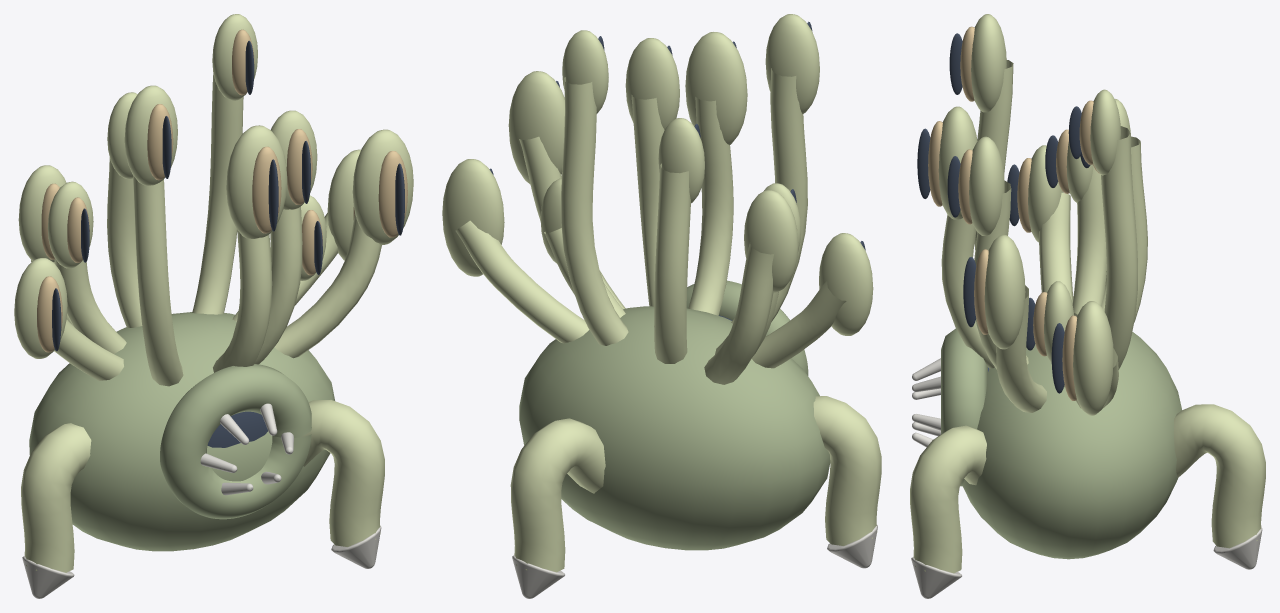
File: bio_eye_orchard_07_near.glb
The picture shows the model from 3 angles, left to right: view 1: azimuth 30°, elevation 25°; view 2: azimuth 150°, elevation 25°; view 3: azimuth 270°, elevation 25°; orthographic projection. The views are drawn at different scales.
Parts seen in each view (by area): view 1: Rooted muscular caudex, Raised oral lip, Asymmetric ocular branch.007, Asymmetric ocular branch.005, Asymmetric ocular branch.003, Asymmetric ocular branch.002, Crooked support.002, Crooked support.001, Asymmetric ocular branch.006, Asymmetric ocular branch.010, Asymmetric ocular branch.004, Asymmetric ocular branch.009 (+19 smaller); view 2: Rooted muscular caudex, Asymmetric ocular branch.003, Asymmetric ocular branch.002, Asymmetric ocular branch.008, Crooked support, Asymmetric ocular branch.006, Asymmetric ocular branch.001, Asymmetric ocular branch.007, Crooked support.001, Asymmetric ocular branch.010, Asymmetric ocular branch.004, Asymmetric ocular branch.005 (+5 smaller); view 3: Rooted muscular caudex, Crooked support, Asymmetric ocular branch.003, Crooked support.002, Asymmetric ocular branch.005, Asymmetric ocular branch.002, Asymmetric ocular branch.007, Asymmetric ocular branch.009, Asymmetric ocular branch.004, Asymmetric ocular branch.008, Asymmetric ocular branch.010, Raised oral lip (+22 smaller).
Part boxes in pixels (box(x1,y1,x2,y2)): Rooted muscular caudex: box(29, 312, 334, 551); Raised oral lip: box(160, 364, 311, 519); Asymmetric ocular branch.007: box(124, 85, 183, 386); Asymmetric ocular branch.005: box(274, 129, 413, 358); Asymmetric ocular branch.003: box(192, 14, 257, 314); Asymmetric ocular branch.002: box(213, 125, 287, 372); Crooked support.002: box(302, 400, 384, 546); Crooked support.001: box(21, 423, 91, 572); Asymmetric ocular branch.006: box(107, 92, 142, 327); Asymmetric ocular branch.010: box(254, 110, 317, 364); Asymmetric ocular branch.004: box(14, 258, 123, 380); Asymmetric ocular branch.009: box(47, 181, 126, 353); Rooted muscular caudex: box(519, 306, 830, 550); Asymmetric ocular branch.003: box(561, 30, 628, 345); Asymmetric ocular branch.002: box(685, 32, 747, 315); Asymmetric ocular branch.008: box(442, 159, 589, 343); Crooked support: box(510, 418, 605, 572); Asymmetric ocular branch.006: box(654, 118, 704, 363); Asymmetric ocular branch.001: box(704, 190, 798, 384); Asymmetric ocular branch.007: box(731, 14, 819, 323); Crooked support.001: box(813, 396, 881, 545); Asymmetric ocular branch.010: box(625, 38, 679, 306); Asymmetric ocular branch.004: box(751, 233, 873, 368); Asymmetric ocular branch.005: box(508, 71, 625, 309); Rooted muscular caudex: box(962, 332, 1181, 559); Crooked support: box(1173, 404, 1265, 548); Asymmetric ocular branch.003: box(1090, 89, 1137, 369); Crooked support.002: box(910, 425, 986, 573); Asymmetric ocular branch.005: box(984, 234, 1046, 412); Asymmetric ocular branch.002: box(938, 106, 994, 368); Asymmetric ocular branch.007: box(971, 14, 1013, 249); Asymmetric ocular branch.009: box(1066, 141, 1106, 314); Asymmetric ocular branch.004: box(1028, 145, 1073, 302); Asymmetric ocular branch.008: box(1073, 301, 1118, 415); Asymmetric ocular branch.010: box(969, 136, 1028, 369); Raised oral lip: box(941, 328, 987, 486).
Bounding box in the file's own units: 1.71 × 2.09 × 1.37.
